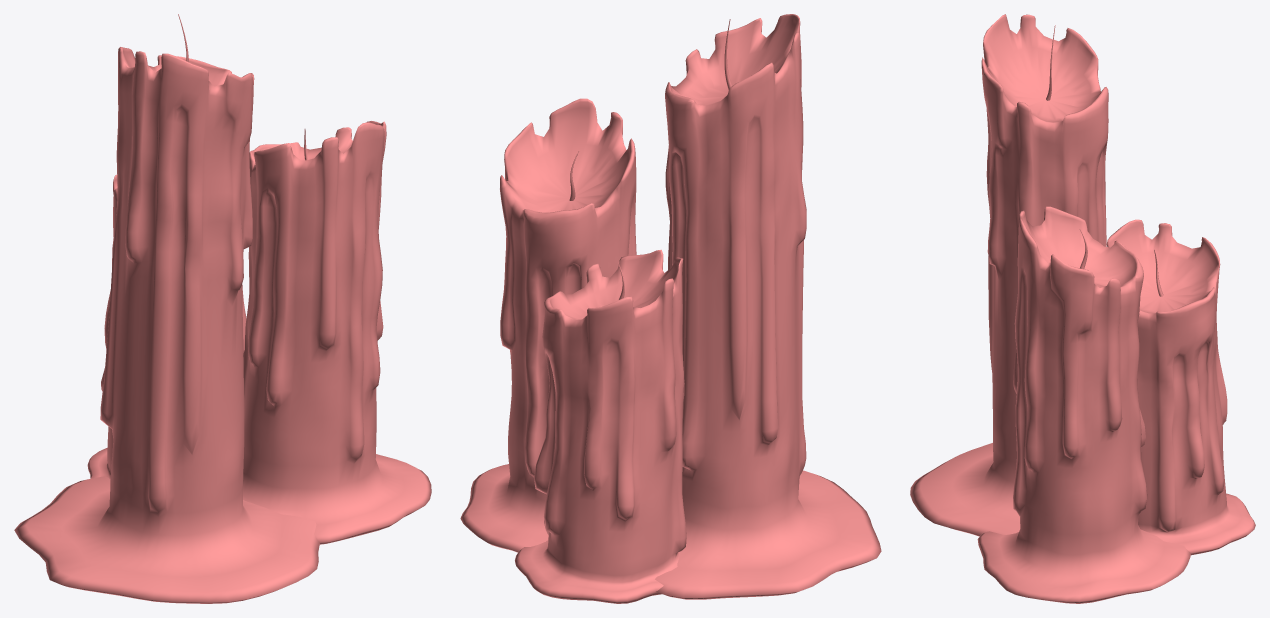
Rendered from SM_Candles_mesh_lod0.fbx.
The picture shows the model from 3 angles, left to right: view 1: azimuth 30°, elevation 25°; view 2: azimuth 150°, elevation 25°; view 3: azimuth 270°, elevation 25°; orthographic projection. The views are drawn at different scales.
Parts seen in each view (by area): view 1: melted candles; view 2: melted candles; view 3: melted candles.
Part boxes in pixels (x1=…): melted candles: x1=14, y1=14, x2=431, y2=603; melted candles: x1=460, y1=14, x2=881, y2=603; melted candles: x1=910, y1=14, x2=1255, y2=603.
Bounding box in the file's own units: 96.08 × 126 × 82.65.
